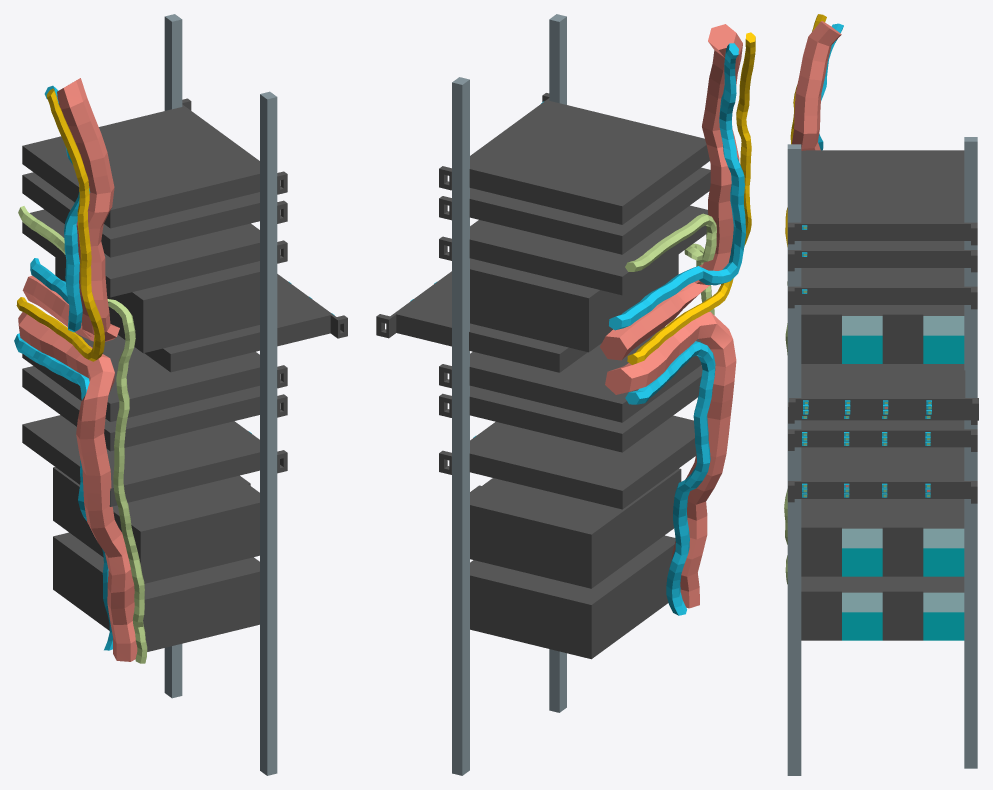
Rendered from switch (1).dae.
3 renders of one model, left to right at view 1: azimuth 30°, elevation 25°; view 2: azimuth 150°, elevation 25°; view 3: azimuth 270°, elevation 25°, orthographic. The views are drawn at different scales.
Visible parts, largest first — view 1: mesh59001017, mesh171312630, mesh1977365624, mesh1535037219, mesh1623232616, mesh355400717, mesh1044108958, mesh177128128, mesh1083793123, mesh90174590, mesh1145687109, mesh1832057760 (+6 smaller); view 2: mesh59001017, mesh171312630, mesh1535037219, mesh1623232616, mesh1821690257, mesh1044108958, mesh177128128, mesh355400717, mesh1083793123, mesh1145687109, mesh1832057760, mesh90174590 (+6 smaller); view 3: mesh59001017, mesh171312630, mesh1535037219, mesh1044108958, mesh1623232616, mesh719887857, mesh1977365624, mesh1821690257, mesh177128128, mesh1832057760, mesh1145687109, mesh90174590 (+1 smaller).
Boxes of the visible parts, bbox=[...] form: mesh59001017: bbox=[22, 98, 287, 228]; mesh171312630: bbox=[53, 467, 259, 583]; mesh1977365624: bbox=[260, 91, 277, 775]; mesh1535037219: bbox=[53, 532, 259, 651]; mesh1623232616: bbox=[22, 415, 287, 506]; mesh355400717: bbox=[18, 312, 137, 661]; mesh1044108958: bbox=[55, 257, 259, 353]; mesh177128128: bbox=[22, 209, 287, 297]; mesh1083793123: bbox=[22, 332, 287, 421]; mesh90174590: bbox=[22, 78, 119, 341]; mesh1145687109: bbox=[22, 172, 287, 257]; mesh1832057760: bbox=[22, 366, 287, 451]; mesh59001017: bbox=[439, 93, 709, 224]; mesh171312630: bbox=[470, 468, 681, 588]; mesh1535037219: bbox=[470, 535, 675, 659]; mesh1623232616: bbox=[439, 415, 696, 509]; mesh1821690257: bbox=[452, 77, 469, 775]; mesh1044108958: bbox=[470, 254, 678, 352]; mesh177128128: bbox=[439, 205, 708, 295]; mesh355400717: bbox=[605, 312, 736, 608]; mesh1083793123: bbox=[439, 327, 703, 422]; mesh1145687109: bbox=[439, 167, 710, 254]; mesh1832057760: bbox=[439, 365, 702, 452]; mesh90174590: bbox=[600, 24, 742, 360]; mesh59001017: bbox=[788, 150, 977, 245]; mesh171312630: bbox=[801, 499, 964, 576]; mesh1535037219: bbox=[801, 576, 964, 640]; mesh1044108958: bbox=[801, 305, 964, 363]; mesh1623232616: bbox=[788, 447, 977, 503]; mesh719887857: bbox=[789, 364, 978, 420]; mesh1977365624: bbox=[787, 144, 801, 775]; mesh1821690257: bbox=[964, 137, 977, 768]; mesh177128128: bbox=[788, 268, 977, 309]; mesh1832057760: bbox=[788, 420, 977, 451]; mesh1145687109: bbox=[788, 241, 977, 272]; mesh90174590: bbox=[792, 21, 841, 150].
Size of the model in its own units: 1.13 by 0.7177 by 2.73.
